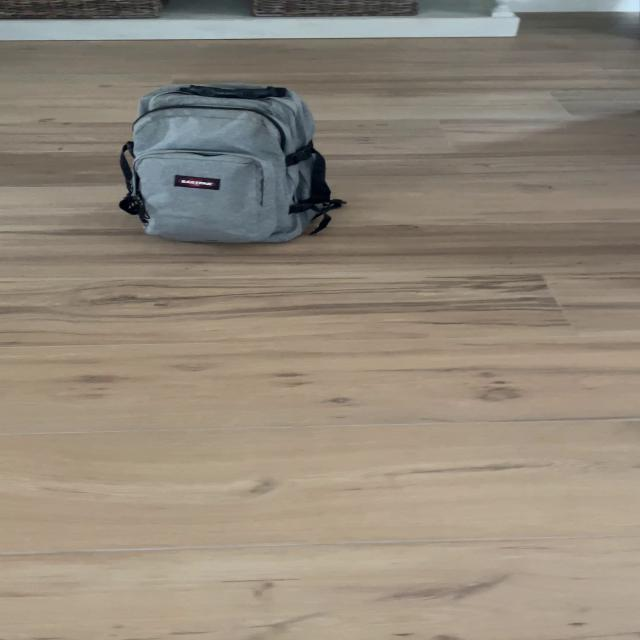backpack: (106, 76, 349, 250)
